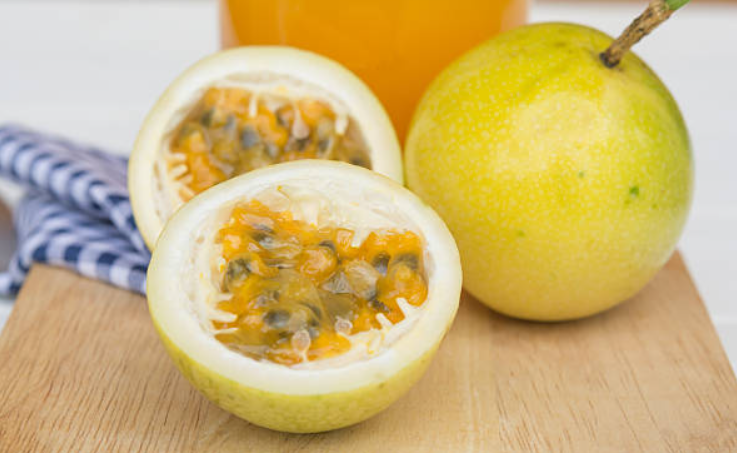maracuya: (404, 21, 700, 328)
